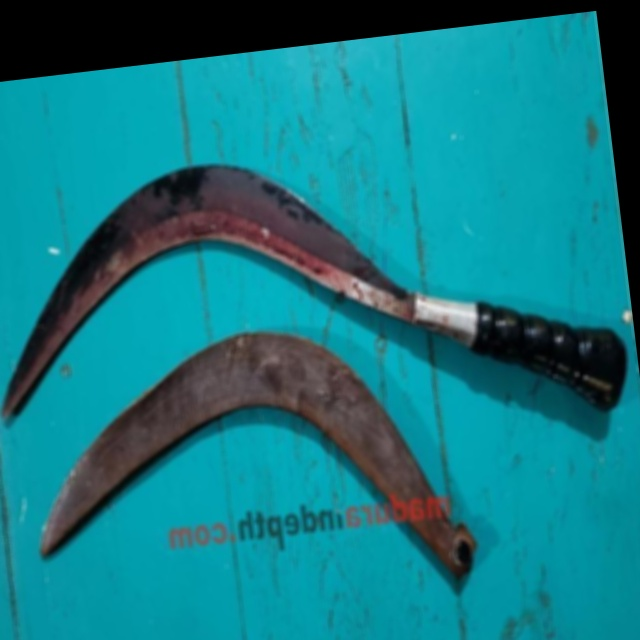Sharp-Object: (0, 112, 636, 488)
